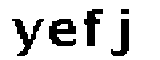e: (48, 17, 78, 51)
f: (79, 4, 105, 47)
j: (107, 5, 137, 58)
y: (6, 15, 46, 59)
